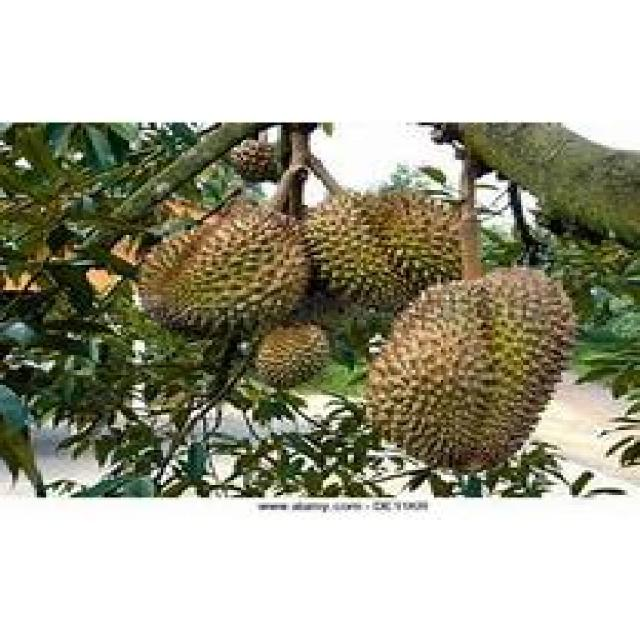fruit: (342, 242, 600, 492), (292, 162, 490, 338), (246, 312, 339, 398)
